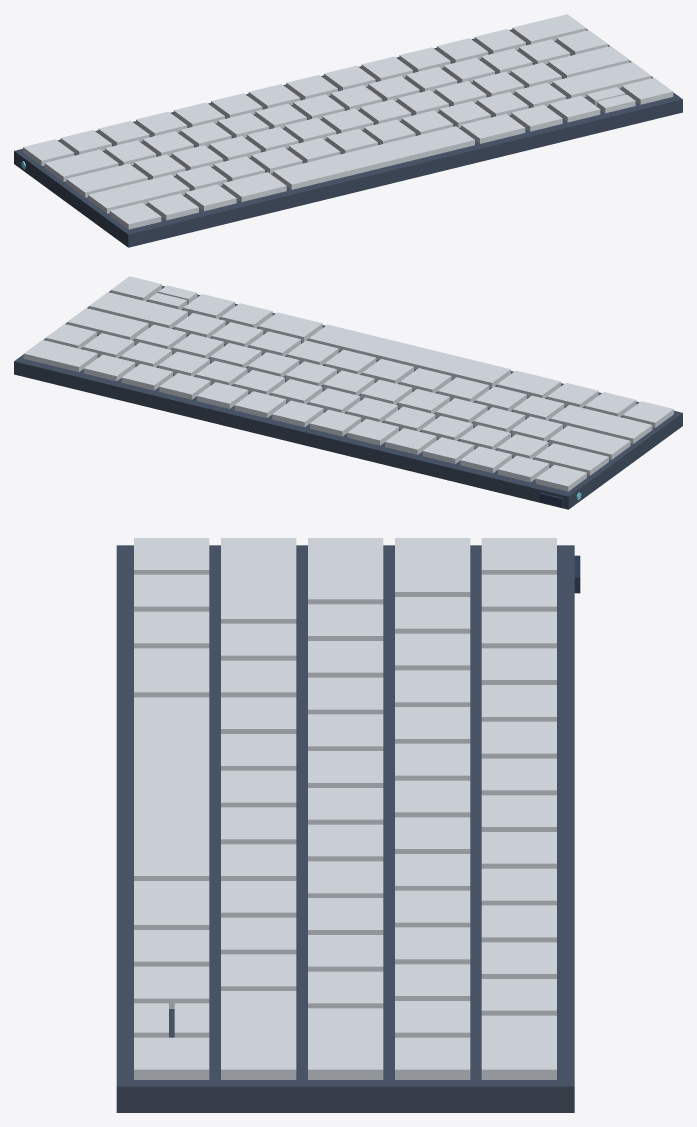
File: keyboard.glb
The picture shows the model from 3 angles, top to bottom: view 1: azimuth 30°, elevation 25°; view 2: azimuth 150°, elevation 25°; view 3: azimuth 270°, elevation 25°; orthographic projection. The views are drawn at different scales.
Parts seen in each view (by area): view 1: group311988427, group96968687, group77921105, group790925258, group1529968652, group425587018, group601803475, group475225180, group873458270, group2091112366, group873558583, group616518658 (+53 smaller); view 2: group311988427, group96968687, group77921105, group790925258, group1529968652, group425587018, group475225180, group601803475, group2091112366, group873458270, group205302596, group1238060299 (+53 smaller); view 3: group311988427, group96968687, group790925258, group77921105, group425587018, group1529968652, group475225180, group601803475, group873458270, group2091112366, group252681800, group873558583 (+53 smaller).
Boxes of the visible parts, x1,y1,x2,y2 form: group311988427: (14, 29, 682, 247); group96968687: (273, 126, 474, 189); group77921105: (88, 174, 189, 213); group790925258: (552, 62, 651, 98); group1529968652: (66, 163, 147, 197); group425587018: (548, 46, 629, 78); group601803475: (44, 149, 118, 181); group475225180: (512, 14, 586, 44); group873458270: (222, 172, 286, 201); group2091112366: (461, 114, 525, 143); group873558583: (621, 78, 673, 104); group616518658: (110, 202, 161, 229); group311988427: (14, 286, 682, 509); group96968687: (309, 324, 510, 387); group77921105: (550, 405, 652, 443); group790925258: (89, 292, 187, 328); group1529968652: (549, 425, 630, 459); group425587018: (67, 308, 148, 340); group475225180: (23, 340, 97, 372); group601803475: (534, 443, 608, 475); group2091112366: (258, 312, 322, 342); group873458270: (497, 370, 560, 398); group205302596: (422, 437, 474, 463); group1238060299: (535, 464, 586, 491); group311988427: (116, 545, 574, 1112); group96968687: (134, 697, 209, 880); group790925258: (221, 991, 296, 1079); group77921105: (221, 538, 296, 623); group425587018: (308, 1008, 383, 1079); group1529968652: (308, 538, 383, 604); group475225180: (481, 1015, 556, 1079); group601803475: (395, 538, 470, 596); group873458270: (134, 648, 209, 697); group2091112366: (134, 881, 209, 929); group252681800: (395, 1037, 470, 1079); group873558583: (134, 1037, 209, 1079).
Bounding box in the file's own units: 0.48 × 0.0157 × 0.1734.
